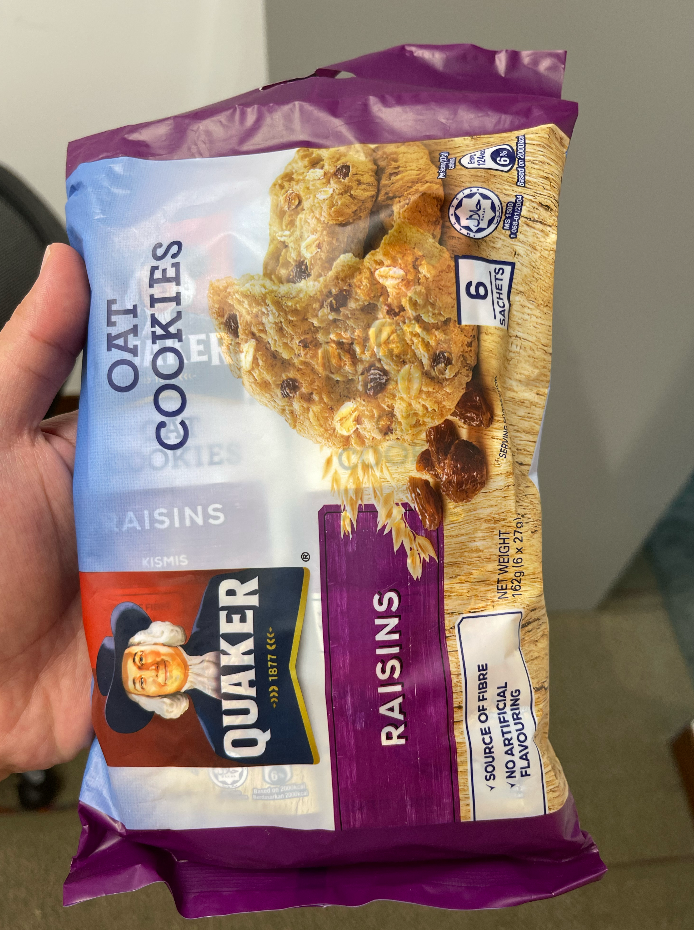cookies_100g-199g: (100, 138, 552, 826)
